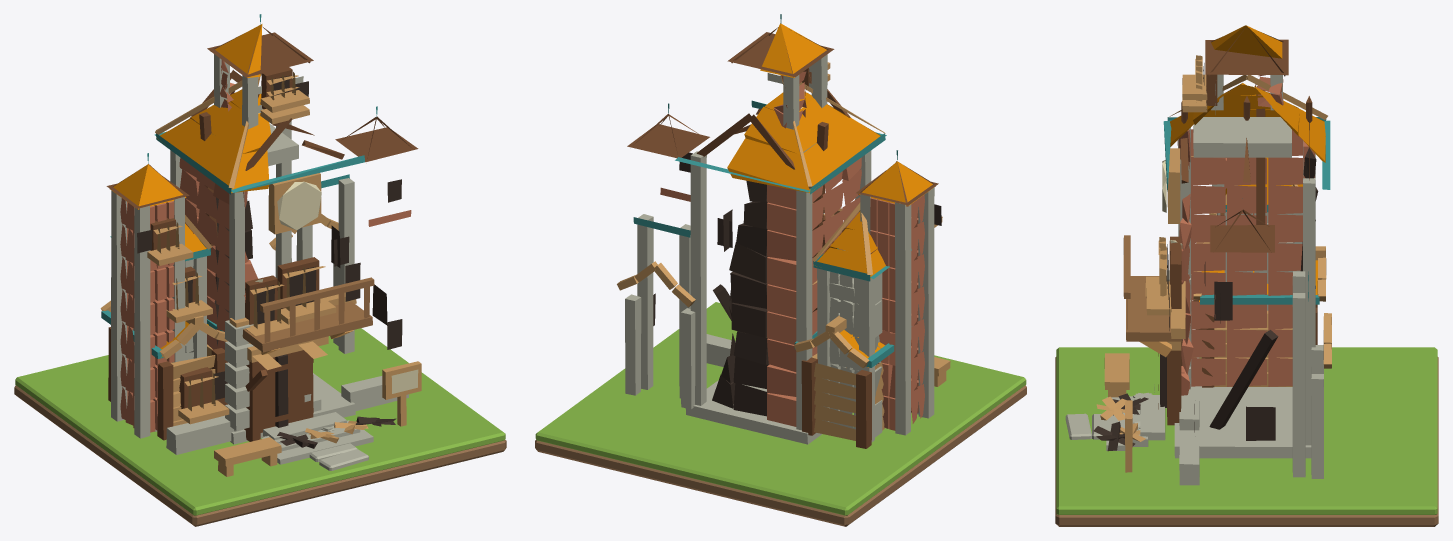
Rendered from town_hall_l10_damaged_LOD2.glb.
3 renders of one model, left to right at view 1: azimuth 30°, elevation 25°; view 2: azimuth 150°, elevation 25°; view 3: azimuth 270°, elevation 25°, orthographic. The views are drawn at different scales.
Parts seen in each view (by area): view 1: town_hall_l10_damaged_foundation.001, town_hall_l10_damaged_grass_tile.001, town_hall_l10_damaged_earth_tile.001, town_hall_l10_damaged_path_stone.005; view 2: town_hall_l10_damaged_foundation.001, town_hall_l10_damaged_grass_tile.001, town_hall_l10_damaged_earth_tile.001; view 3: town_hall_l10_damaged_foundation.001, town_hall_l10_damaged_grass_tile.001, town_hall_l10_damaged_earth_tile.001, town_hall_l10_damaged_path_stone.005.
Boxes of the visible parts, left/top/right/bottom form: town_hall_l10_damaged_foundation.001: left=100, top=14, right=421, bottom=476; town_hall_l10_damaged_grass_tile.001: left=15, top=328, right=505, bottom=515; town_hall_l10_damaged_earth_tile.001: left=14, top=385, right=506, bottom=526; town_hall_l10_damaged_path_stone.005: left=319, top=449, right=368, bottom=470; town_hall_l10_damaged_foundation.001: left=617, top=14, right=950, bottom=448; town_hall_l10_damaged_grass_tile.001: left=535, top=302, right=1026, bottom=515; town_hall_l10_damaged_earth_tile.001: left=535, top=385, right=1026, bottom=526; town_hall_l10_damaged_foundation.001: left=1093, top=25, right=1331, bottom=485; town_hall_l10_damaged_grass_tile.001: left=1056, top=347, right=1437, bottom=514; town_hall_l10_damaged_earth_tile.001: left=1055, top=357, right=1438, bottom=526; town_hall_l10_damaged_path_stone.005: left=1065, top=413, right=1091, bottom=439.
Bounding box in the file's own units: 3.6 × 4.49 × 3.6.
